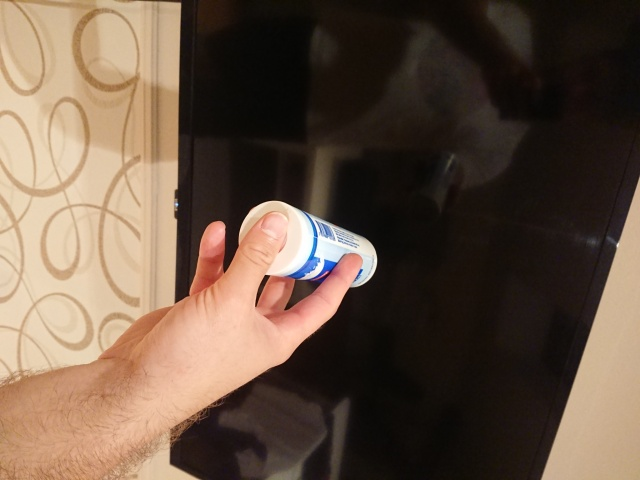Solana Pag Fine Sea Salt 250g: (234, 197, 382, 291)
